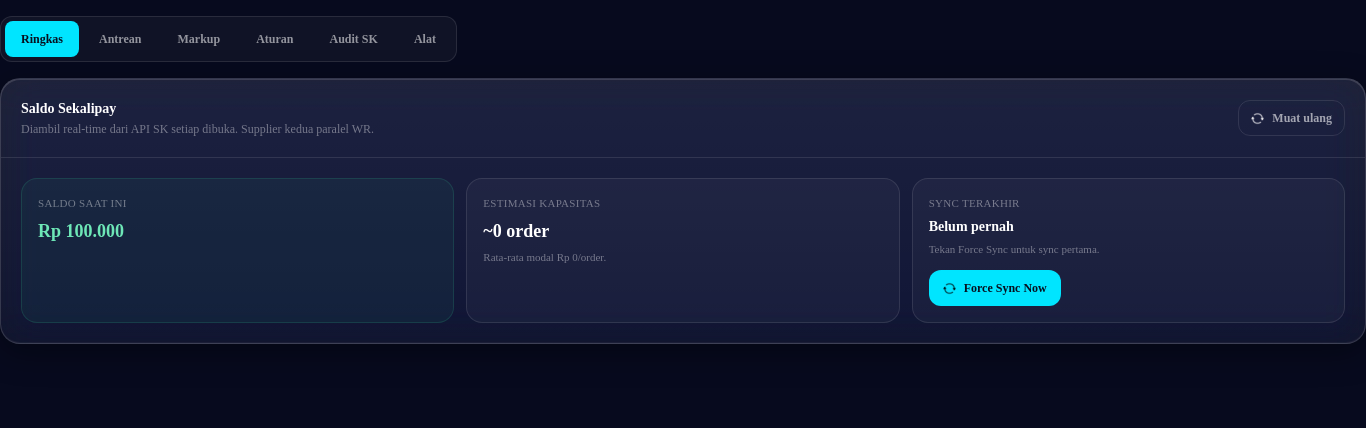
Test: tab dalam-halaman SK › sandbox berada di tab Antrean (bukan section sendiri)
Expected: the field with placeholder "product_id" is not shown
Click the tab "Antrean".
click(120, 39)  # box [83, 21, 158, 57]
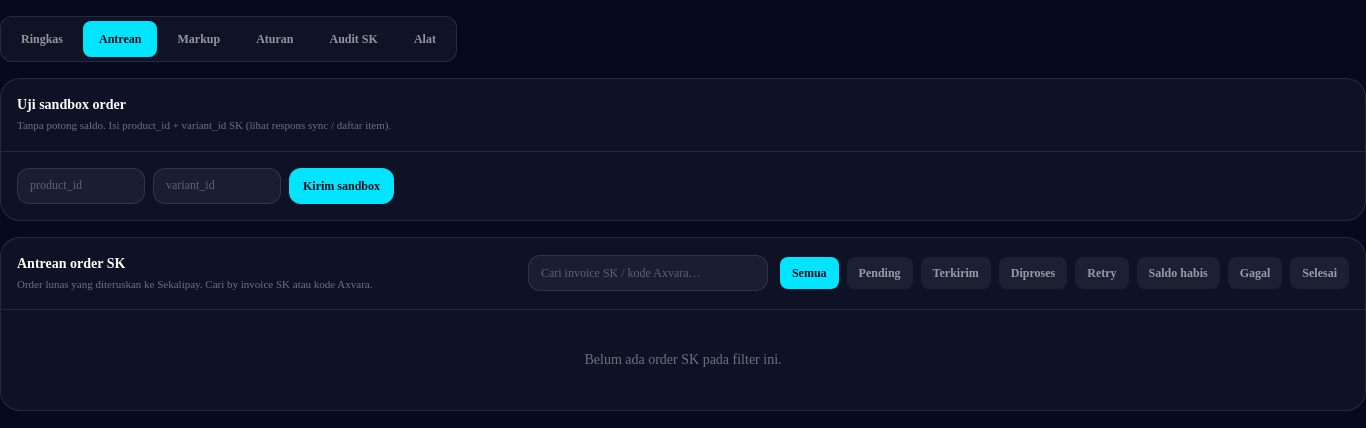
Result: the field with placeholder "product_id" is shown at [17, 168, 145, 204]
